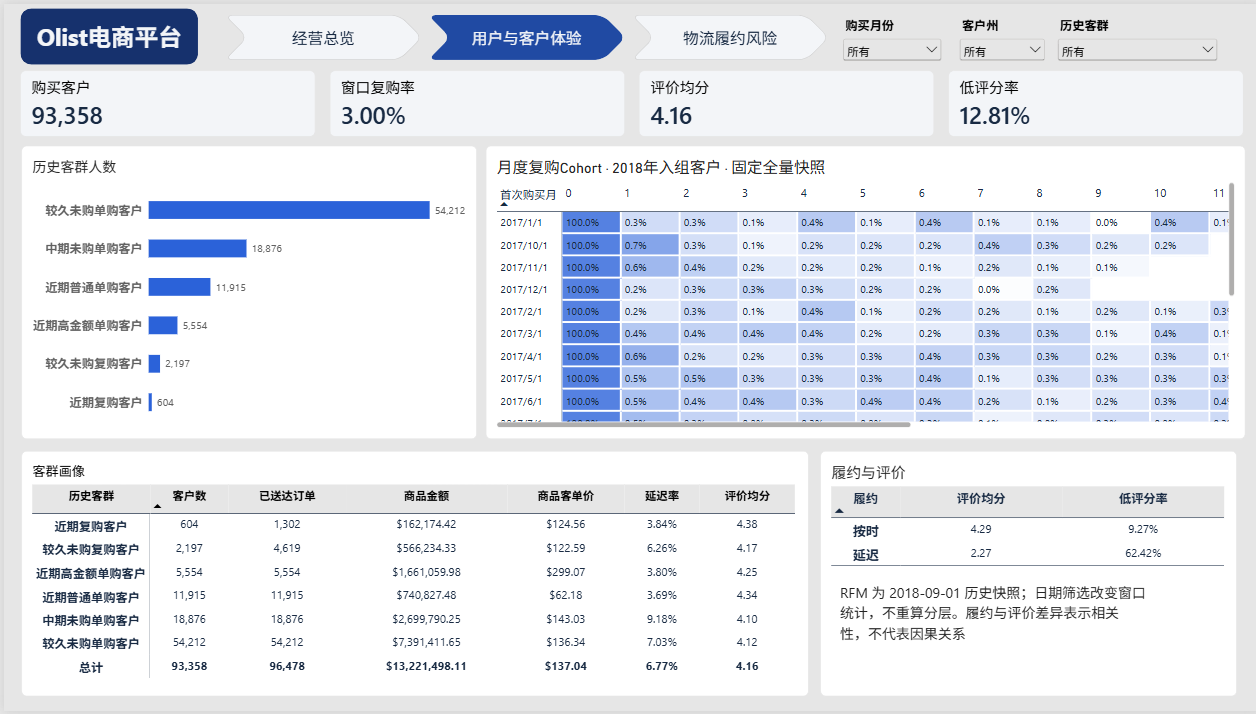

The dashboard page shown, as its layout file describes it:
{"tool":"powerbi","page":{"name":"用户与客户体验","canvas":[1920,1080],"ordinal":1},"visuals":[{"type":"actionButton","box":[25.3,6.8,271.9,86.1],"z":0},{"type":"pageNavigator","box":[336,16,926,70],"z":1000},{"type":"cardVisual","fields":{"Data":["FactOrders.购买客户","FactOrders.窗口复购率","FactOrders.评价均分","FactOrders.低评分率"]},"box":[25.3,101.3,1871.3,101.3],"z":2000},{"type":"clusteredBarChart","title":"历史客群人数","fields":{"Category":["DimCustomer.segment"],"Y":["FactOrders.购买客户"]},"box":[26.7,216.7,696.7,448.3],"z":3000},{"type":"pivotTable","title":"客群画像","fields":{"Rows":["DimCustomer.segment"],"Values":["FactOrders.购买客户","FactOrders.已送达订单","FactOrders.商品金额","FactOrders.商品客单价","FactOrders.延迟率","FactOrders.评价均分"]},"box":[26.7,683.3,1203.3,375],"z":4000},{"type":"pivotTable","title":"履约与评价","fields":{"Rows":["FactOrders.履约分组"],"Values":["FactOrders.评价均分","FactOrders.低评分率"]},"box":[1248.3,683.3,636.7,375],"z":5000},{"type":"textbox","box":[1278,884,468,128],"z":6000},{"type":"pivotTable","title":"月度复购Cohort · 2018年入组客户 · 固定全量快照","fields":{"Columns":["CohortRates.month_age"],"Rows":["CohortRates.cohort_month"],"Values":["Max(CohortRates.repeat_rate)"]},"box":[736.7,216.7,1161.7,448.3],"z":7000},{"type":"slicer","fields":{"Values":["DimDate.YearMonth"]},"box":[1278,18,160,84],"z":8000},{"type":"slicer","fields":{"Values":["FactOrders.customer_state"]},"box":[1456,18,140,84],"z":9000},{"type":"slicer","fields":{"Values":["DimCustomer.segment"]},"box":[1606,18,254,84],"z":10000}]}

Visuals, with their boxes in screenshot pixels (x1, y1, x2, y2), scaled from the page's 1920x1080 canvas onto the 1256x714 screenshot:
actionButton: <box>17,4,194,61</box>
pageNavigator: <box>220,11,826,57</box>
cardVisual - FactOrders.购买客户 x FactOrders.窗口复购率: <box>17,67,1241,134</box>
"历史客群人数" clusteredBarChart: <box>17,143,473,440</box>
"客群画像" pivotTable: <box>17,452,805,700</box>
"履约与评价" pivotTable: <box>817,452,1233,700</box>
textbox: <box>836,584,1142,669</box>
"月度复购Cohort · 2018年入组客户 · 固定全量快照" pivotTable: <box>482,143,1242,440</box>
slicer - DimDate.YearMonth: <box>836,12,941,67</box>
slicer - FactOrders.customer_state: <box>952,12,1044,67</box>
slicer - DimCustomer.segment: <box>1051,12,1217,67</box>
